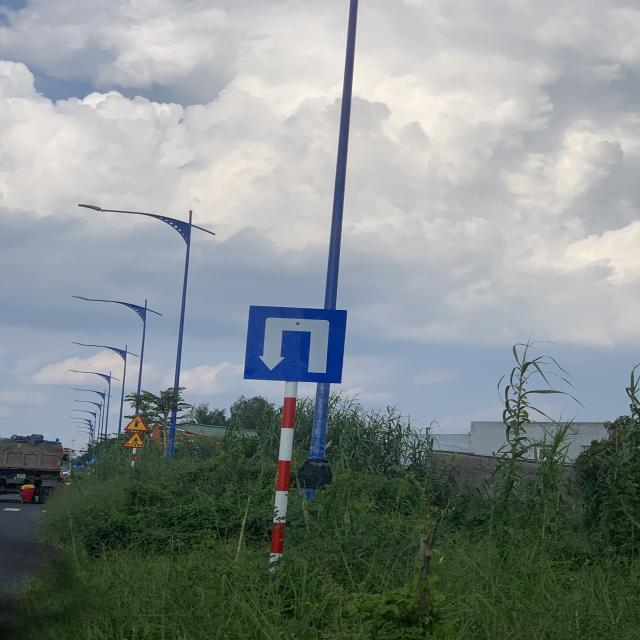Den_Giao_Thong: (242, 305, 348, 382)
